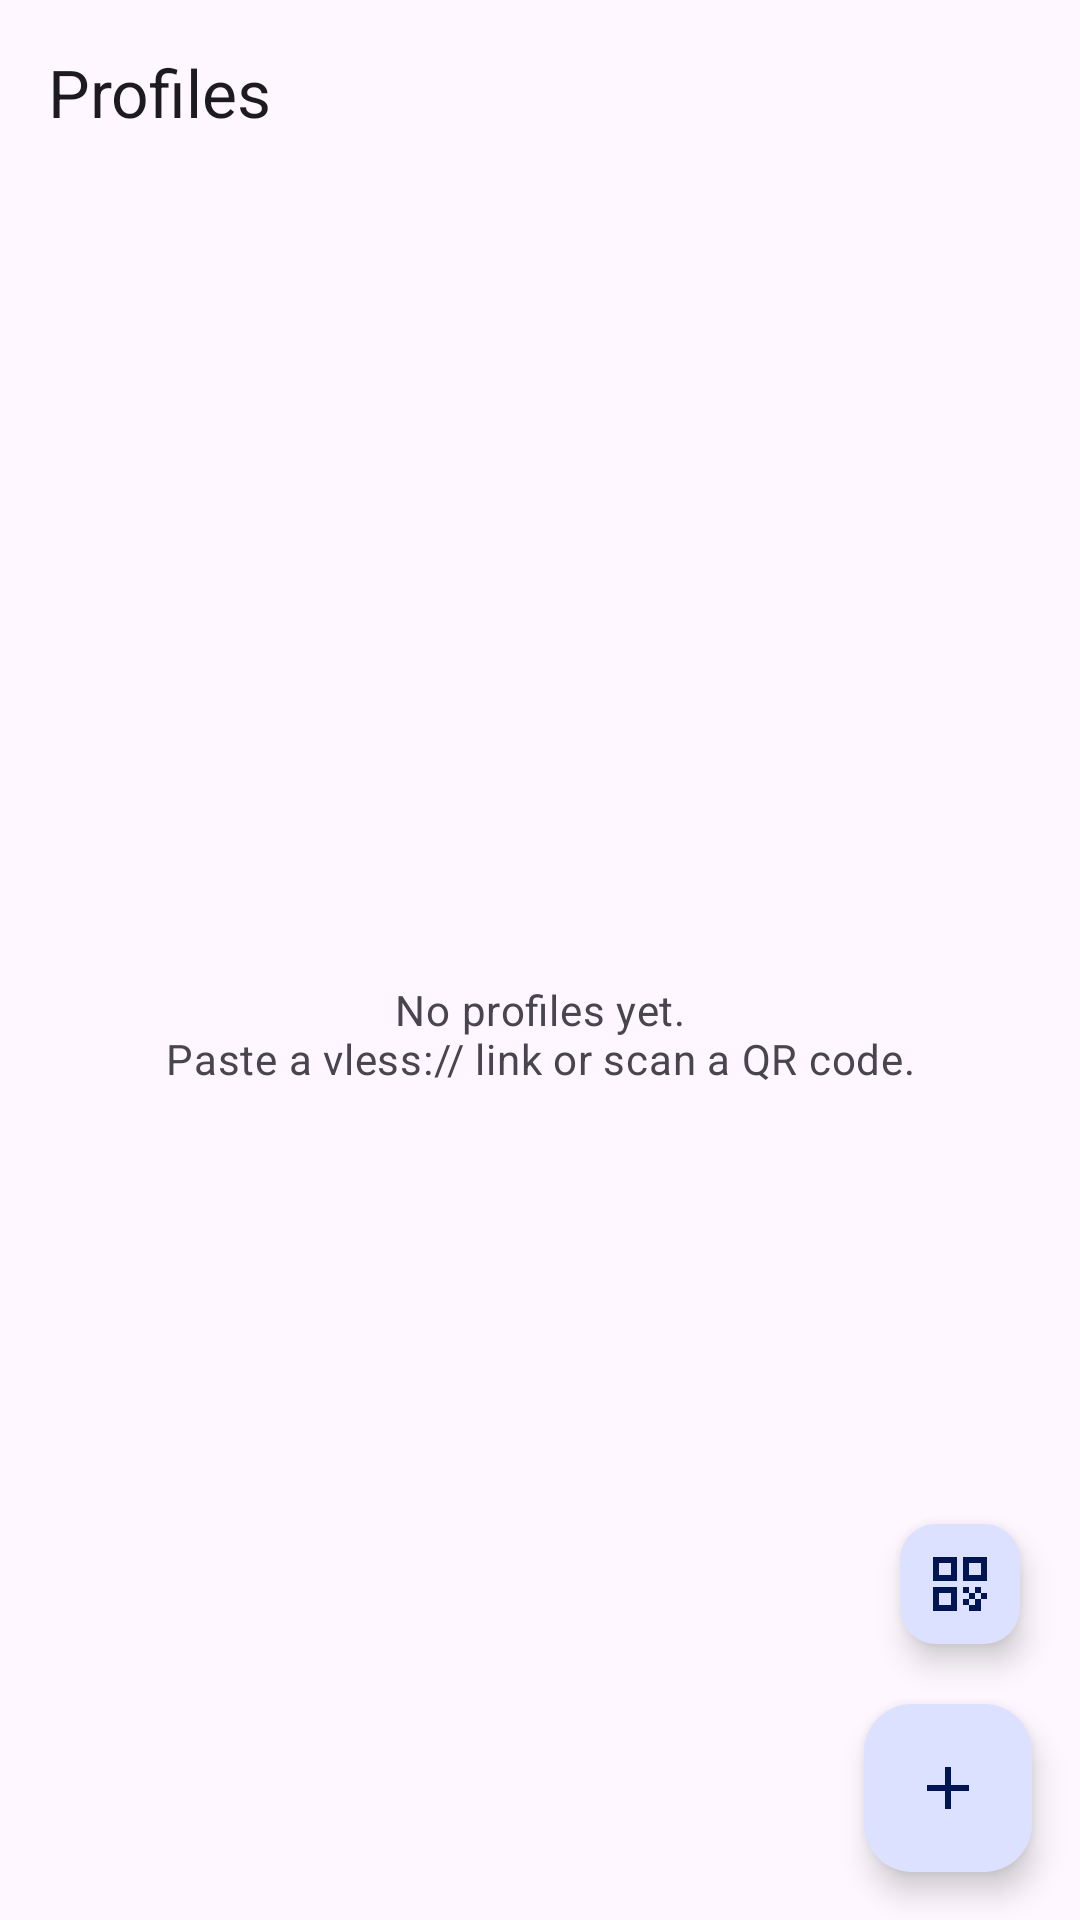

Locate icon controls on the screen. Image size 1080px x 1920px, boxes as (x1, y1, x2, y2).
Add profile: (864, 1704, 1032, 1872)
Scan QR code: (900, 1524, 1023, 1656)
